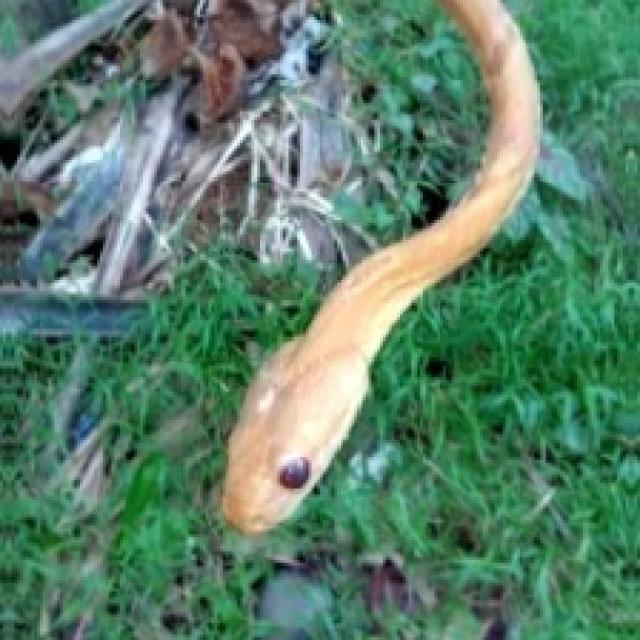philippine cat snake: (223, 0, 537, 531)
